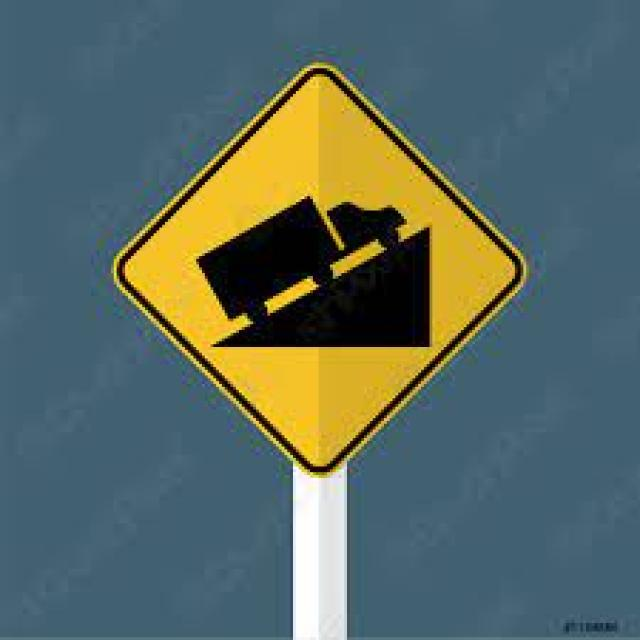steep ascent: (108, 59, 524, 478)
